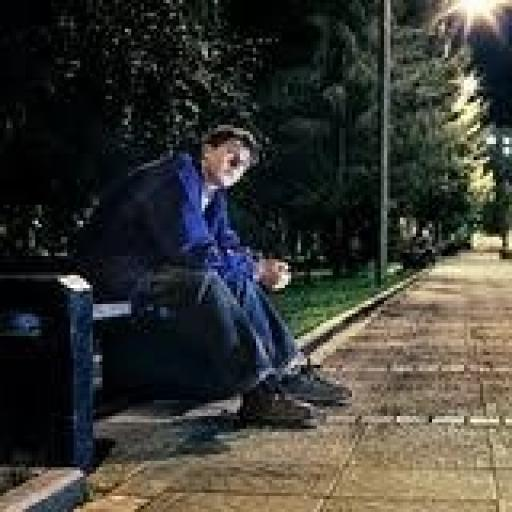sitting: (74, 115, 355, 429)
